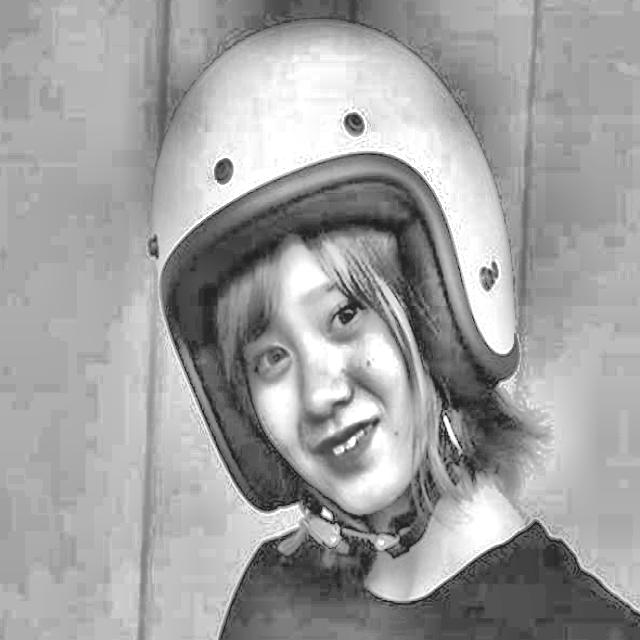Helmet: (137, 4, 529, 569)
